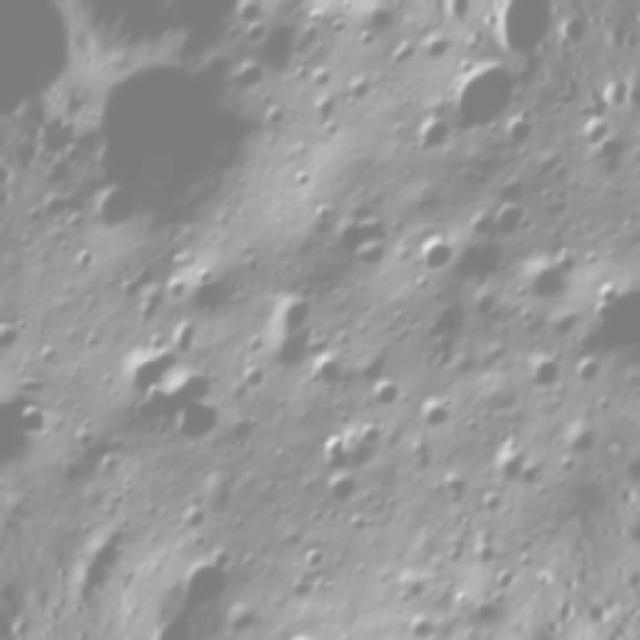crater: (60, 34, 260, 246), (160, 540, 262, 635), (443, 49, 528, 134), (0, 358, 43, 493), (405, 378, 460, 434), (410, 222, 459, 281), (317, 466, 366, 516), (306, 342, 348, 390), (276, 627, 327, 640)
